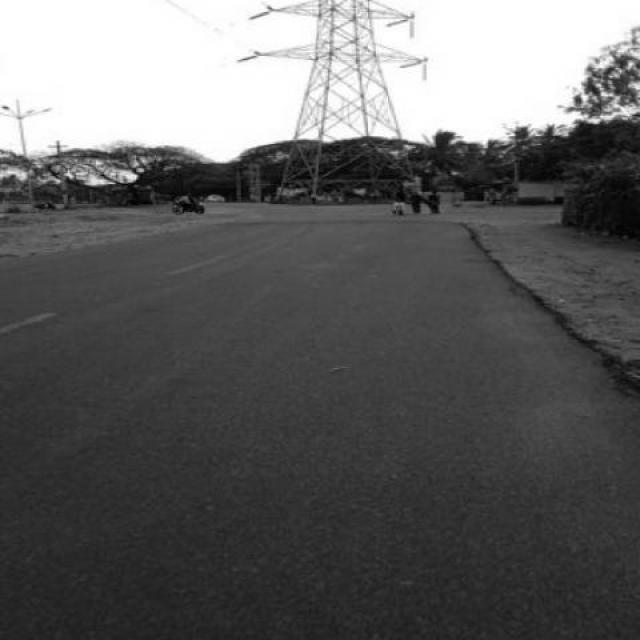Unmarked Bump: (212, 218, 470, 228)
